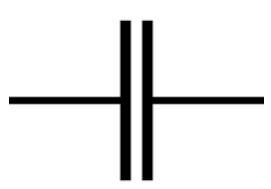Capacitor: (89, 10, 180, 183)
